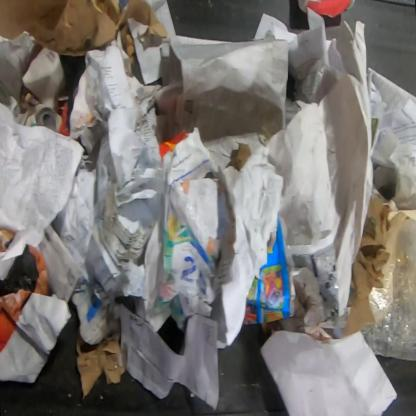cardboard: (341, 196, 390, 338), (76, 328, 126, 400)
metal: (30, 103, 63, 133)
rigid_plastic: (297, 0, 356, 19)
soft_plastic: (362, 219, 415, 362)
